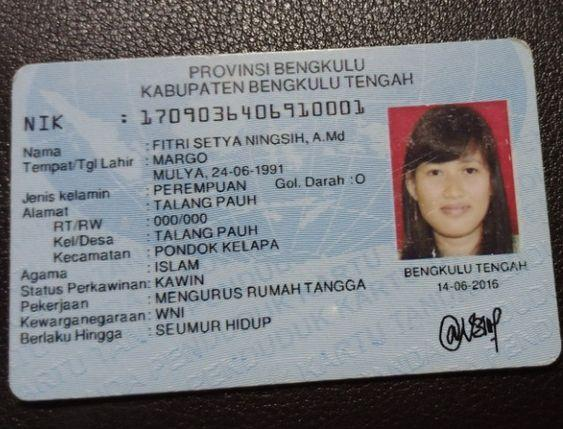ID-card: (12, 39, 557, 392)
